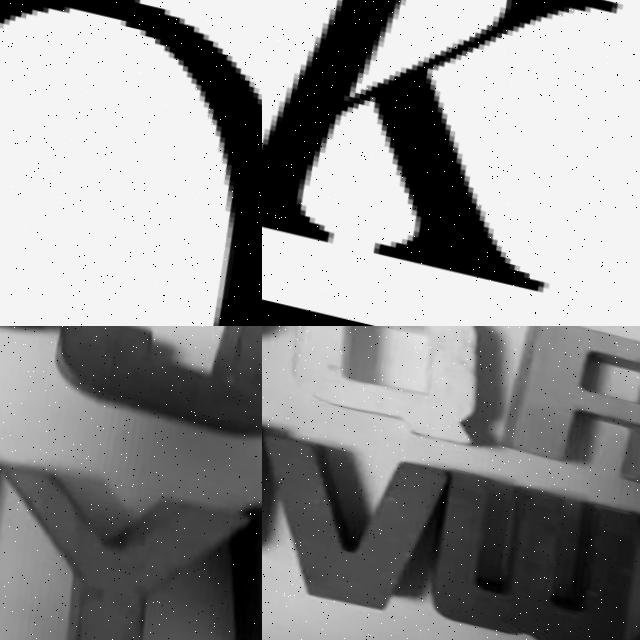J: (41, 326, 262, 447)
K: (262, 0, 640, 304)
Q: (266, 326, 500, 449)
R: (479, 326, 640, 499)
V: (262, 431, 451, 618)
W: (413, 464, 639, 640)
Y: (0, 462, 256, 640)
